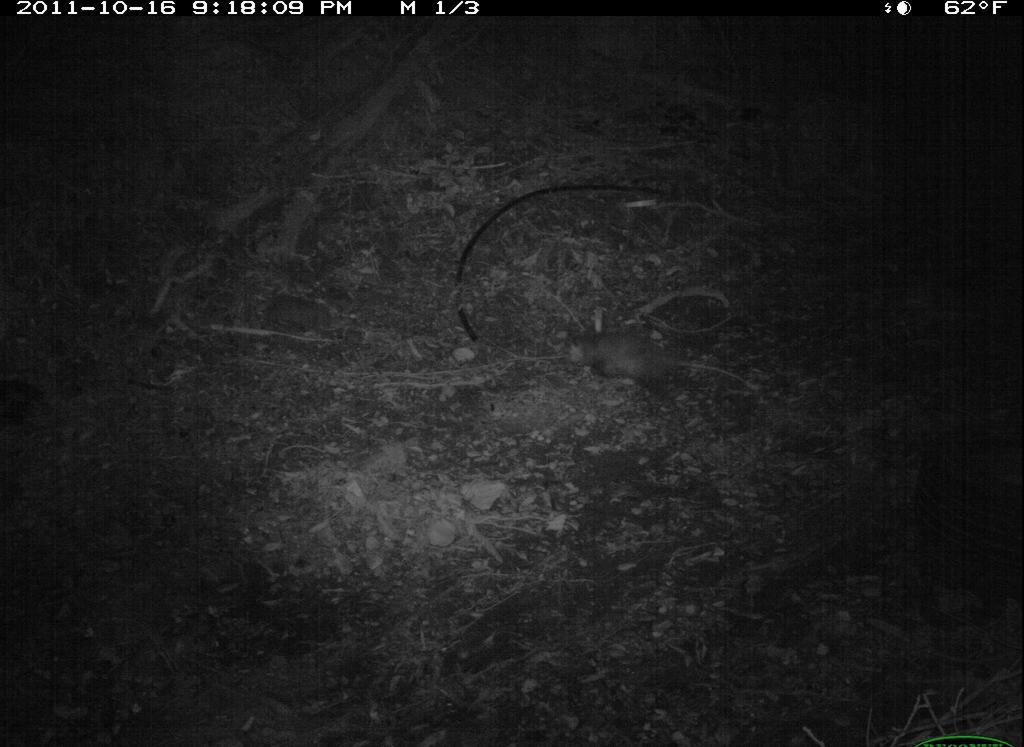opossum: (566, 321, 716, 408)
